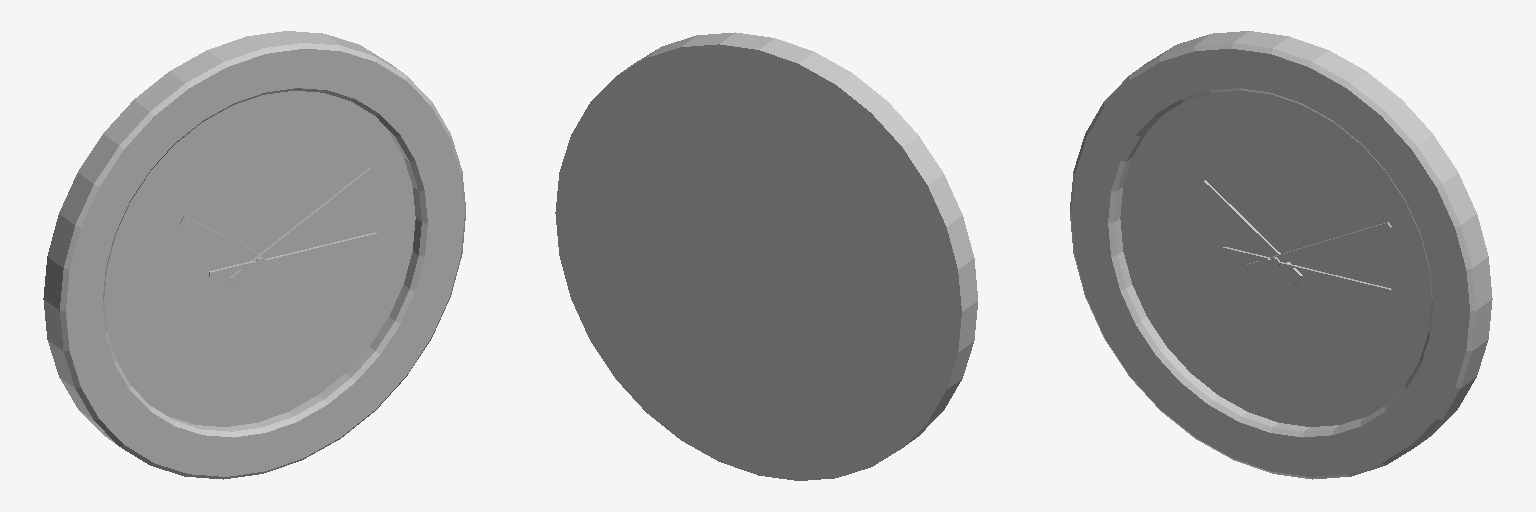
File: WallClock_LP.obj
3 views of the same model, side by side, from view 1: azimuth 30°, elevation 25°; view 2: azimuth 150°, elevation 25°; view 3: azimuth 330°, elevation 25° (orthographic).
Visible parts, largest first — view 1: Clock_LP, Minutes_Pointer, Hours_Pointer, Seconds_Pointer; view 2: Clock_LP; view 3: Clock_LP, Hours_Pointer, Minutes_Pointer, Seconds_Pointer.
Part boxes in pixels (x1,y1,x2,y2): Clock_LP: (43,31,465,479); Minutes_Pointer: (230,168,373,285); Hours_Pointer: (179,216,281,275); Seconds_Pointer: (209,232,376,276); Clock_LP: (555,32,977,480); Clock_LP: (1070,31,1492,479); Hours_Pointer: (1200,180,1302,284); Minutes_Pointer: (1247,222,1391,273); Seconds_Pointer: (1223,247,1391,290).
Size of the model in its own units: 316 by 316 by 25.